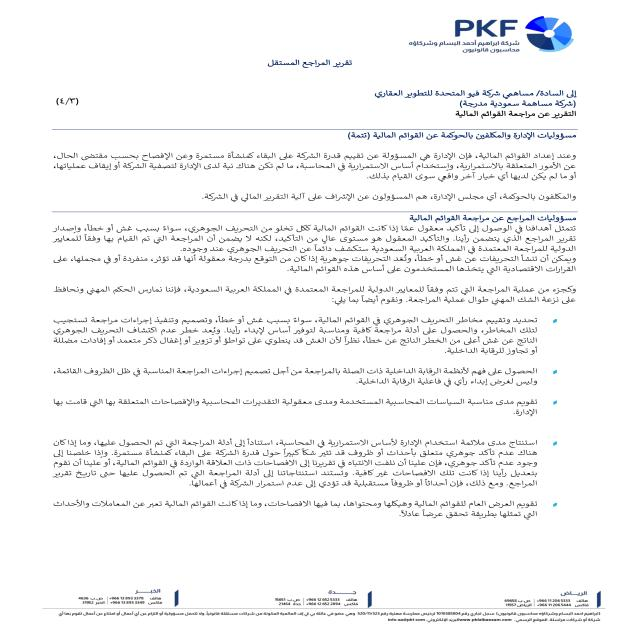auditor_report: (227, 48, 370, 82)
